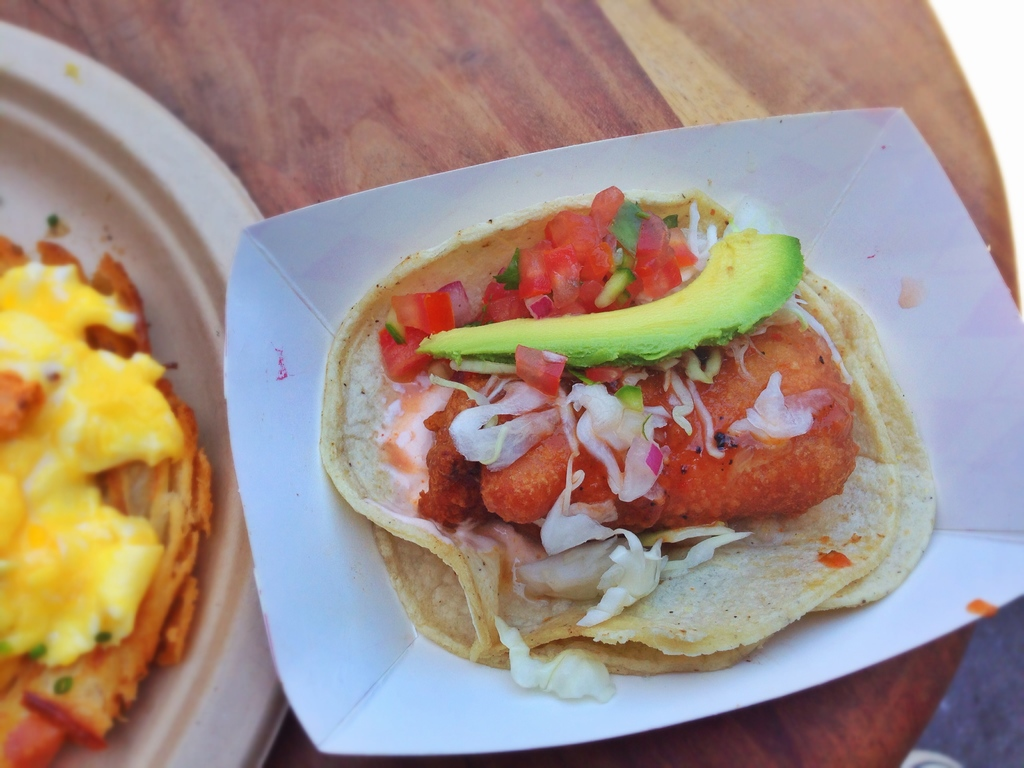taco: (282, 141, 940, 684)
